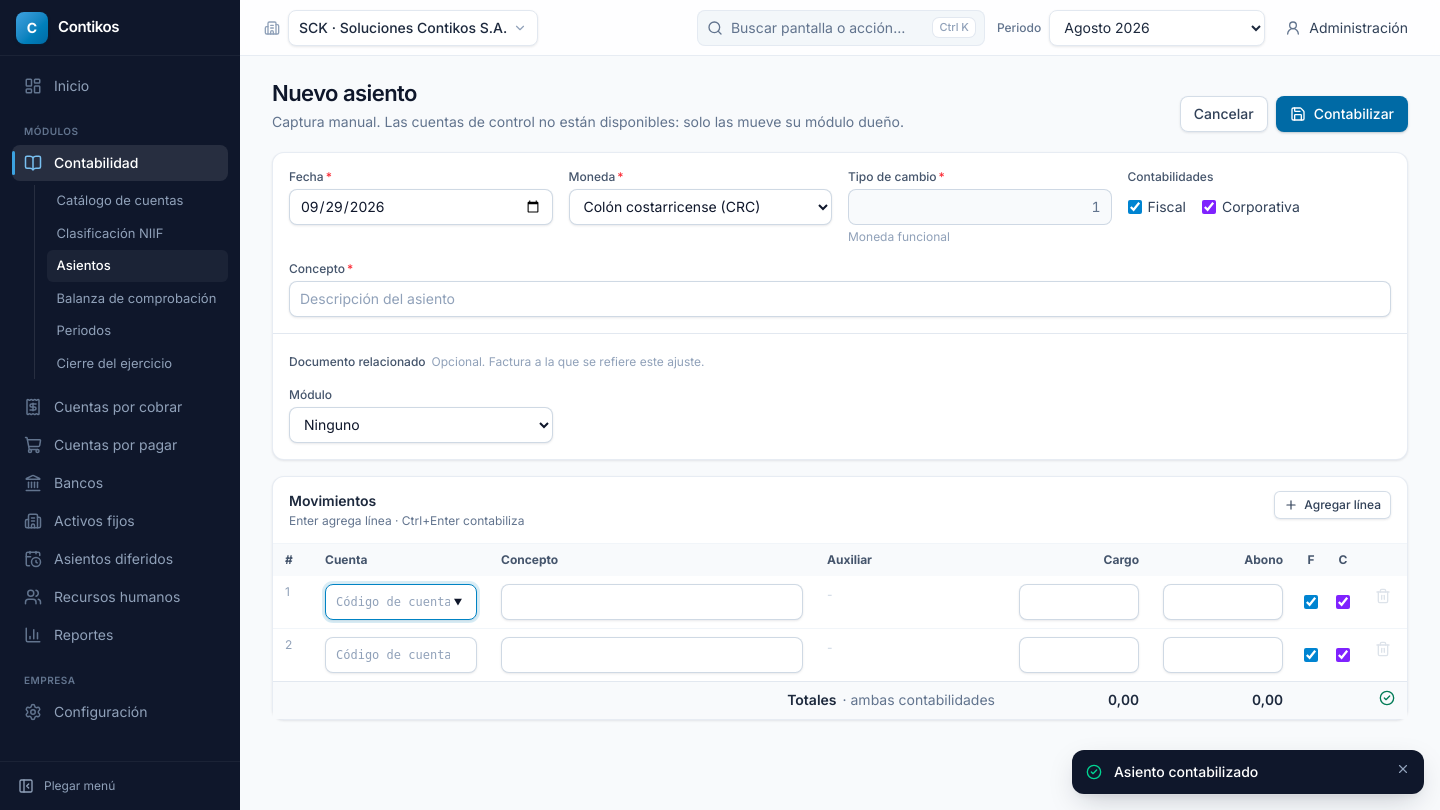
Test: Auxiliar opcional y coincidencia tolerante › el buscador de un auxiliar exigido resuelve por cédula
The image size is (1440, 810).
Type "2026-08-20" into the date field labelled "Fecha*" at (421, 206), box [289, 188, 552, 224]
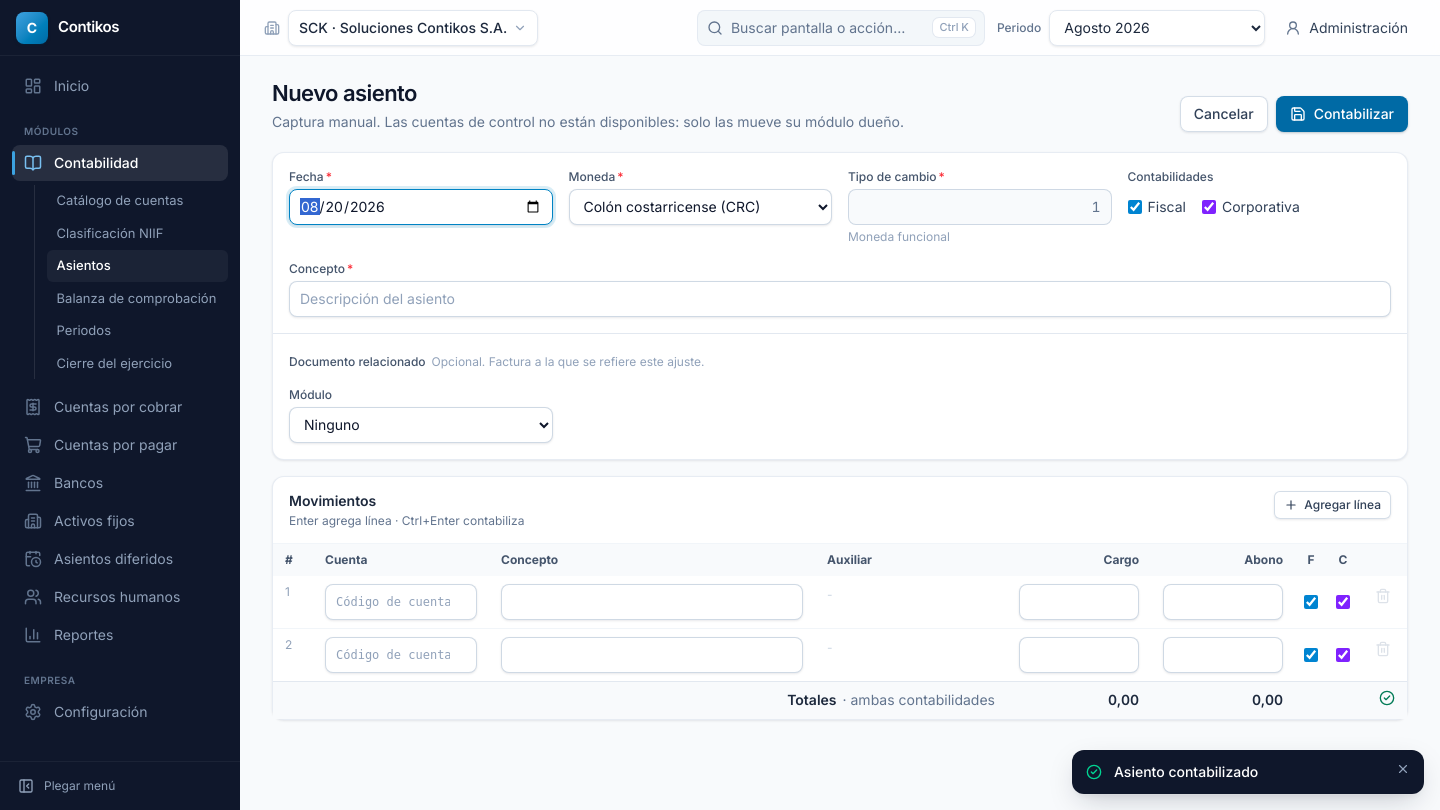
Type "2.1.04.001" into the 1st field labelled "cuenta" at (401, 602), box [325, 584, 477, 620]
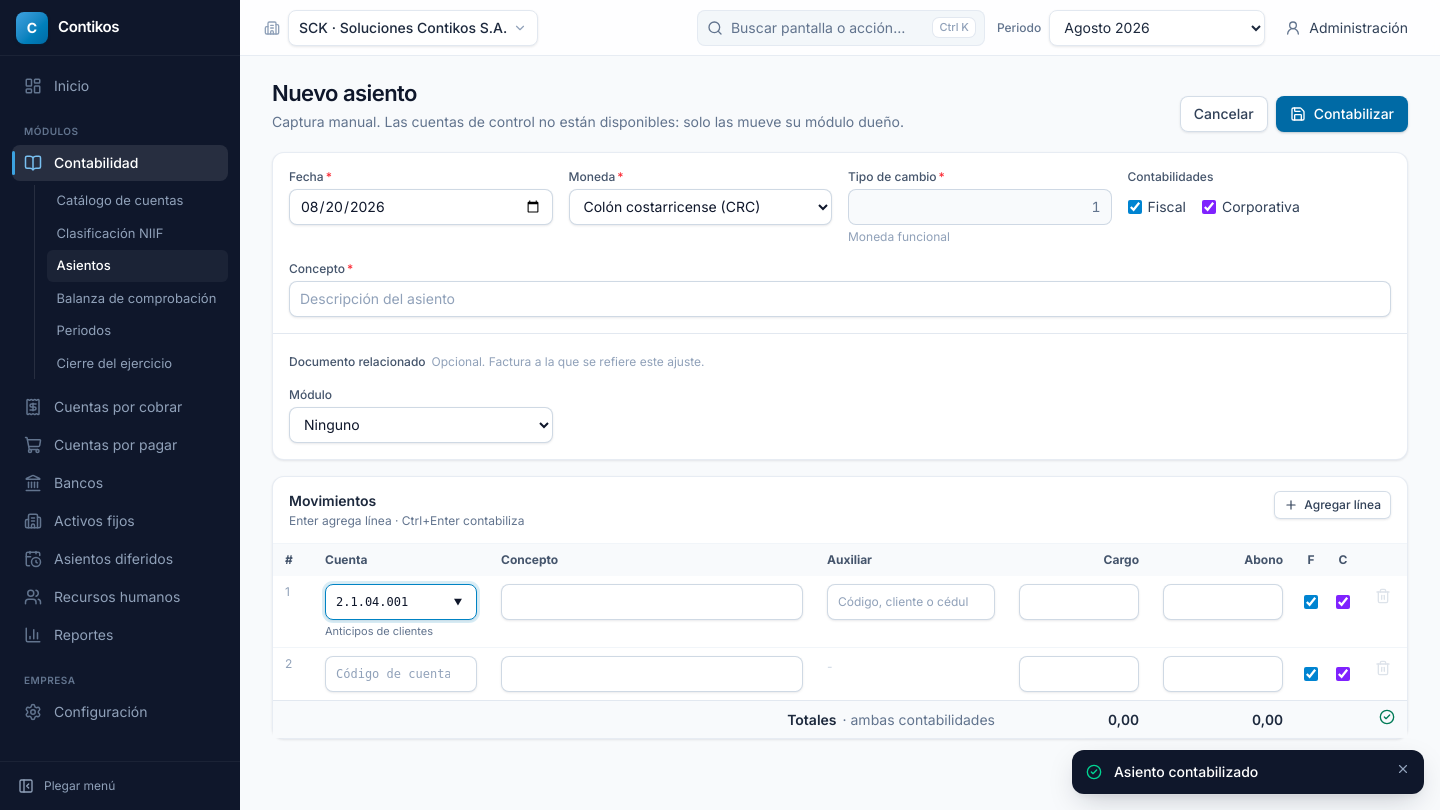
Type "3101223344" into the field named "Auxiliar" at (911, 602), box [827, 584, 995, 620]
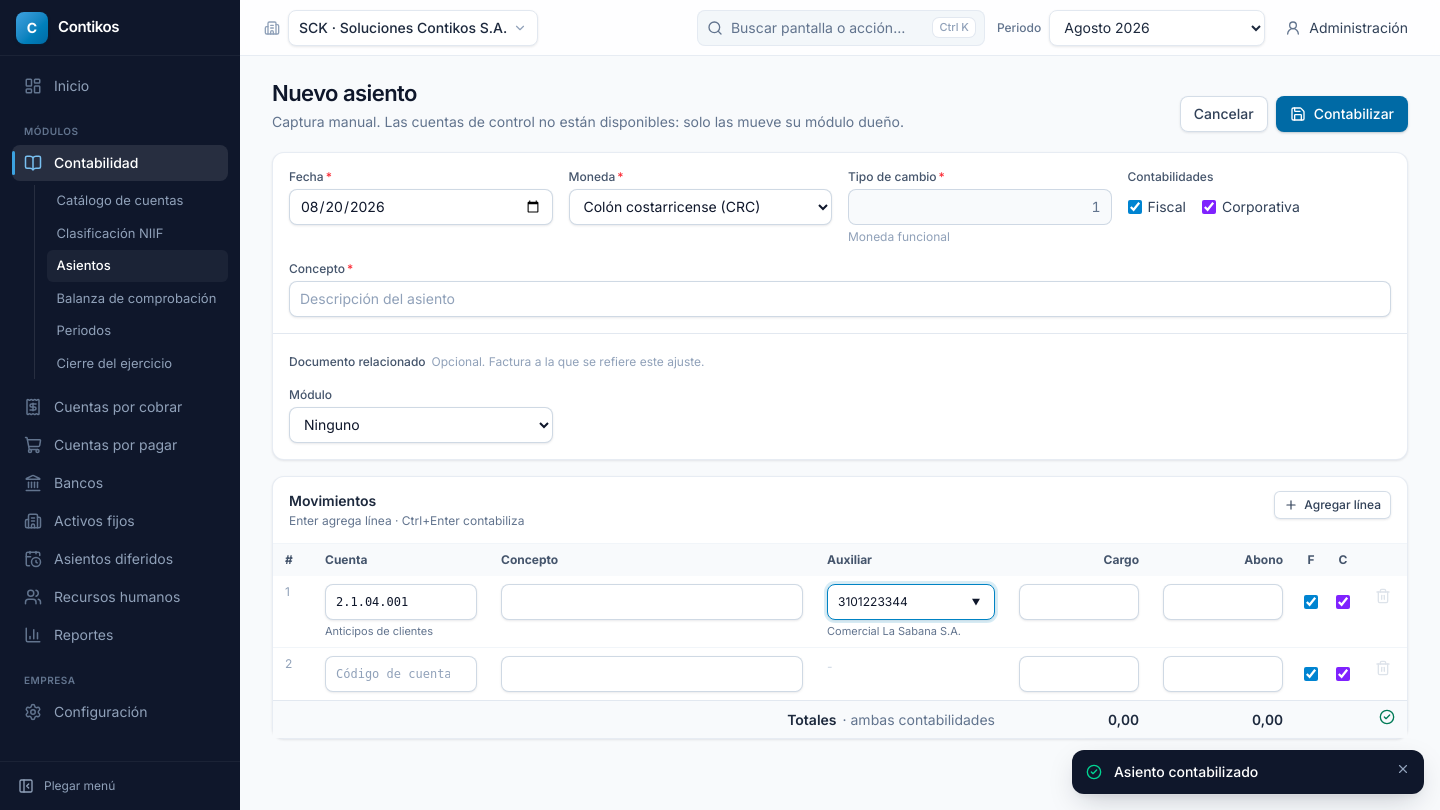
Now the text "Comercial La Sabana S.A." is shown, box [827, 624, 961, 638]
